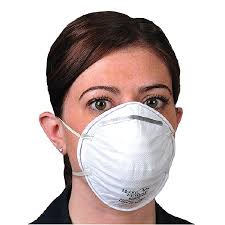mask: (46, 22, 187, 211)
